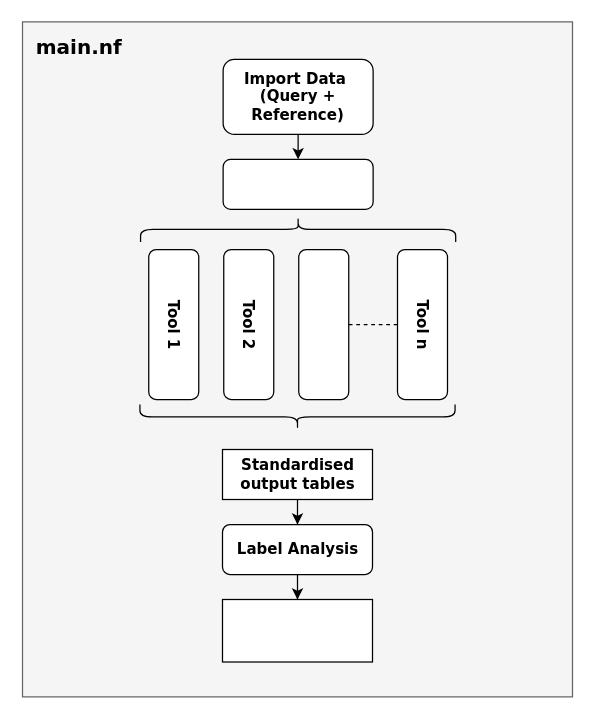
The diagram is 594 pixels wide and 719 high, and some of its shapes have lost their labels. Each missing label, with the centre of its shape:
Tool 3: point (323, 324)
Tool performance table: point (296, 630)
Zooma Mapping (optional): point (297, 183)
